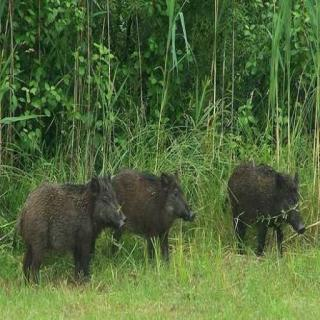Pig: (22, 158, 127, 300), (196, 162, 315, 264), (111, 153, 182, 245)
